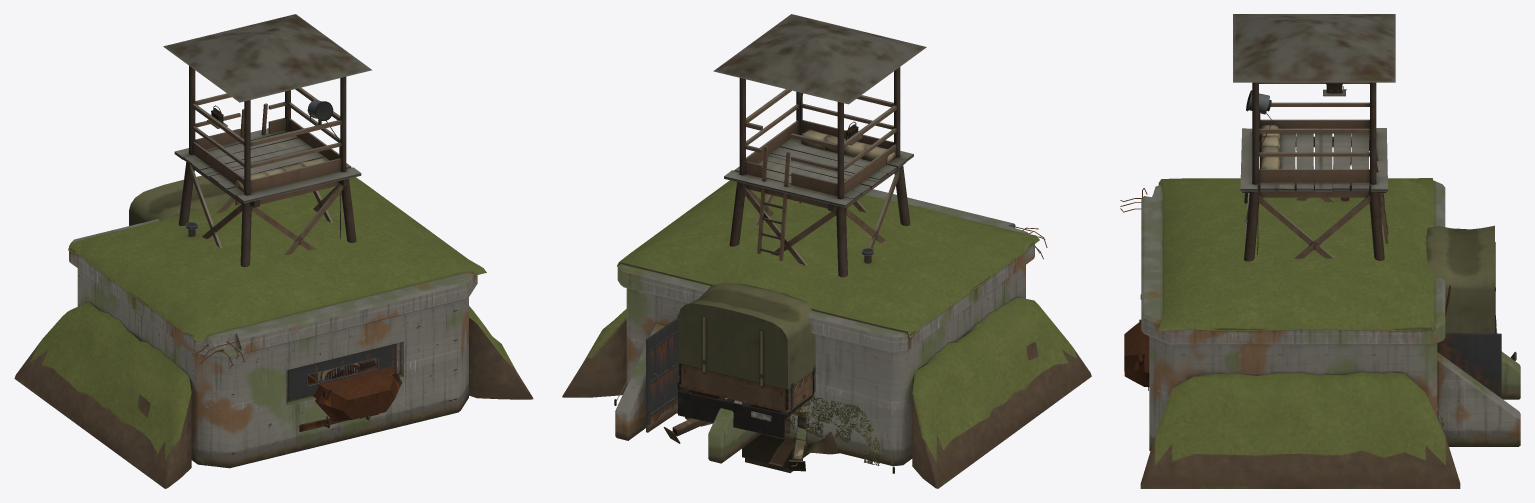
File: military.glb
3 views of the same model, side by side, from view 1: azimuth 30°, elevation 25°; view 2: azimuth 150°, elevation 25°; view 3: azimuth 270°, elevation 25° (orthographic). The views are drawn at different scales.
Parts seen in each view (by area): view 1: bunker, watchtower, halftrack_wreck, truck, truck_burnt; view 2: bunker, watchtower, truck, truck_burnt, camo_net, dugout_entrance, pak40, halftrack_wreck; view 3: bunker, watchtower, truck, halftrack_wreck.
Boxes of the visible parts, x1=… form: bunker: x1=14, y1=177, x2=533, y2=488; watchtower: x1=163, y1=14, x2=372, y2=267; halftrack_wreck: x1=307, y1=359, x2=402, y2=421; truck: x1=129, y1=175, x2=371, y2=423; truck_burnt: x1=299, y1=362, x2=378, y2=431; bunker: x1=562, y1=180, x2=1091, y2=488; watchtower: x1=713, y1=14, x2=926, y2=277; truck: x1=678, y1=282, x2=816, y2=429; truck_burnt: x1=677, y1=382, x2=814, y2=437; camo_net: x1=614, y1=366, x2=894, y2=473; dugout_entrance: x1=742, y1=434, x2=810, y2=473; pak40: x1=663, y1=418, x2=807, y2=471; halftrack_wreck: x1=768, y1=416, x2=795, y2=470; bunker: x1=1120, y1=178, x2=1520, y2=488; watchtower: x1=1233, y1=14, x2=1395, y2=261; truck: x1=1425, y1=225, x2=1496, y2=344; halftrack_wreck: x1=1124, y1=319, x2=1516, y2=387.
Size of the model in its own units: 7.89 by 7.79 by 6.96.
Materials: 43 (43 with a texture image).
